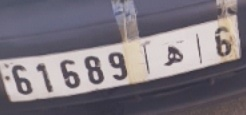1: (35, 61, 53, 96)
6: (9, 62, 34, 100), (212, 26, 236, 58), (60, 57, 82, 89)
8: (83, 52, 106, 86)
9: (107, 49, 127, 84)
h: (159, 45, 186, 67)
